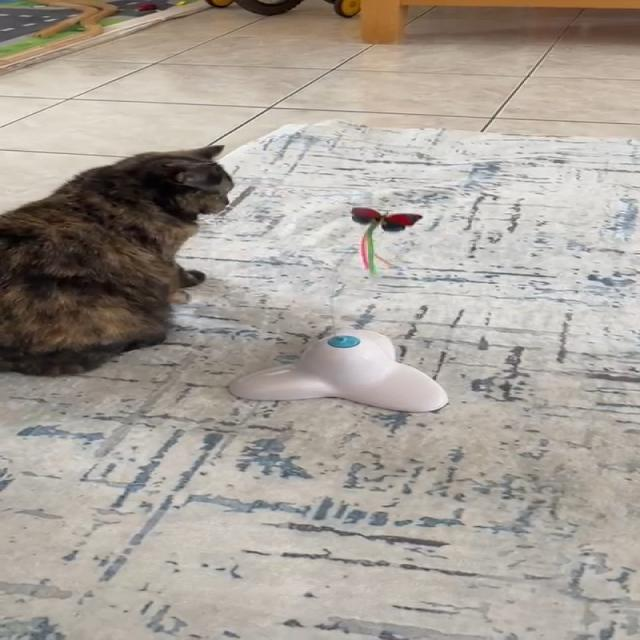authorized: (0, 144, 235, 376)
